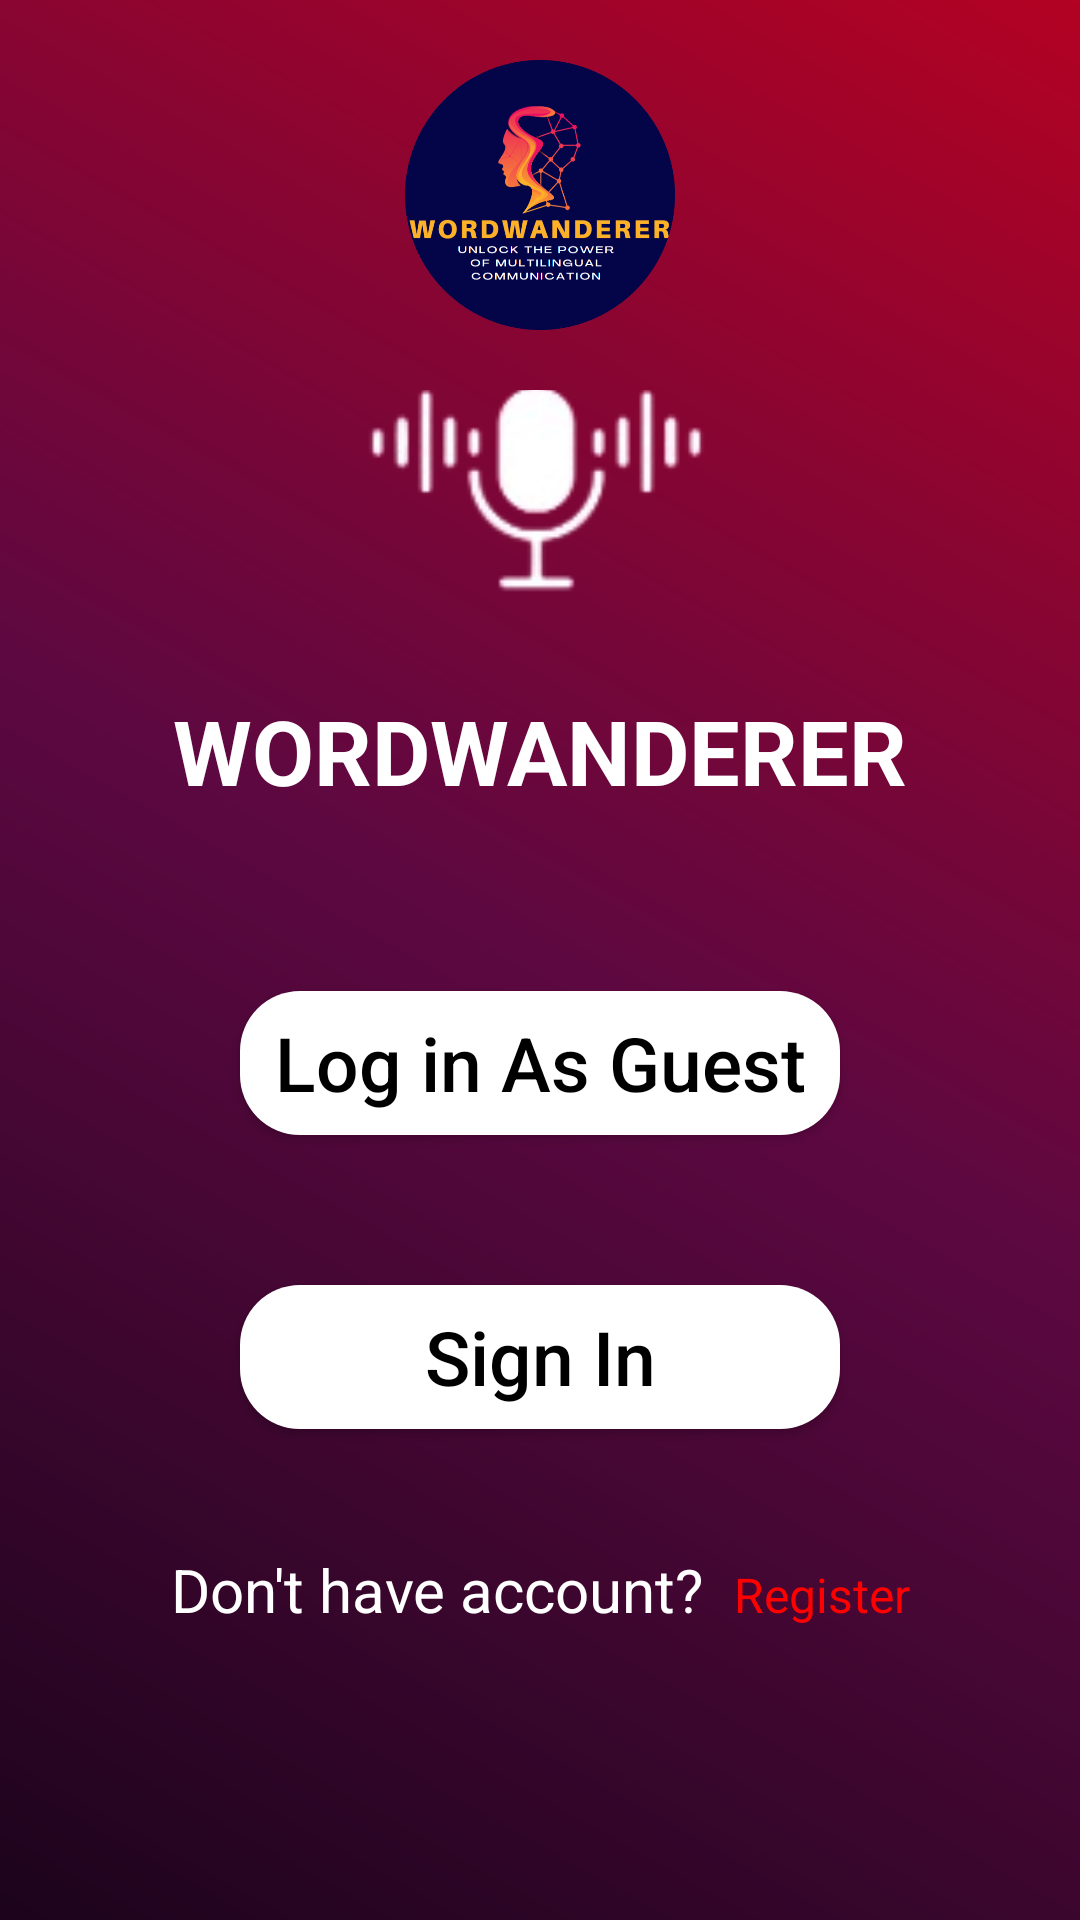

Named icons in this screenshot (1080x1920) and their bounding boxes, (x1, y1, x2, y2):
mic: (371, 390, 702, 591)
